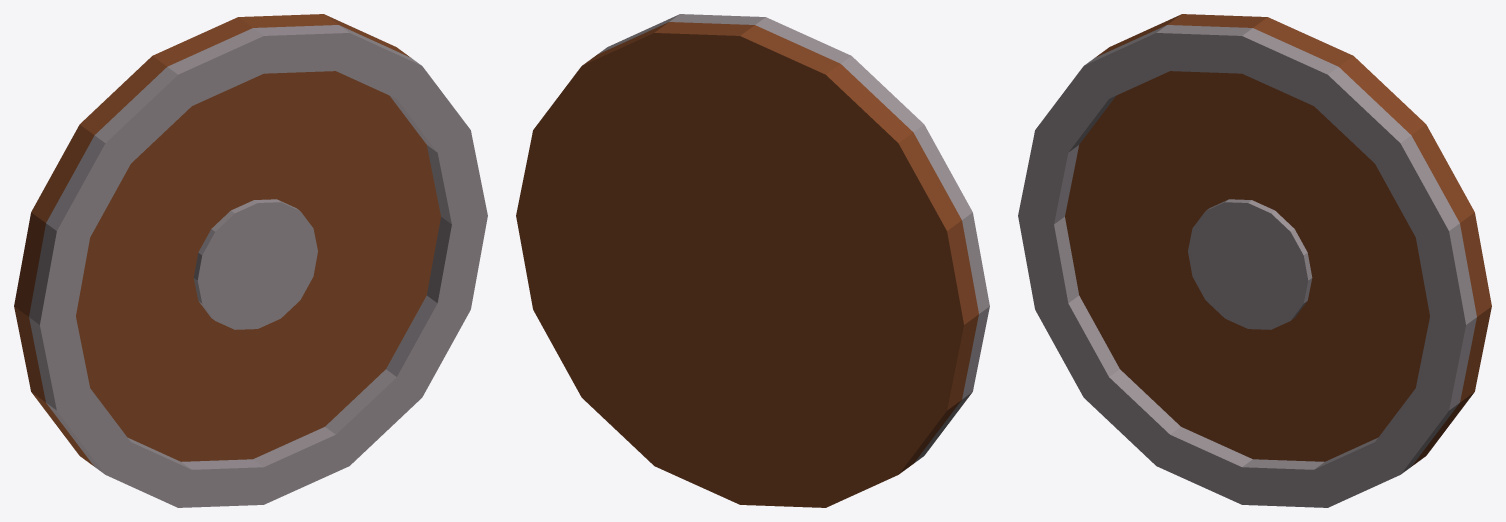
Rendered from shield.fbx.
The picture shows the model from 3 angles, left to right: view 1: azimuth 30°, elevation 25°; view 2: azimuth 150°, elevation 25°; view 3: azimuth 330°, elevation 25°; orthographic projection.
Visible parts, largest first — view 1: Cylinder; view 2: Cylinder; view 3: Cylinder.
Boxes of the visible parts, bbox=[...] form: Cylinder: bbox=[14, 14, 487, 507]; Cylinder: bbox=[516, 14, 989, 507]; Cylinder: bbox=[1018, 14, 1491, 507].
Size of the model in its own units: 200 by 200 by 19.98.
